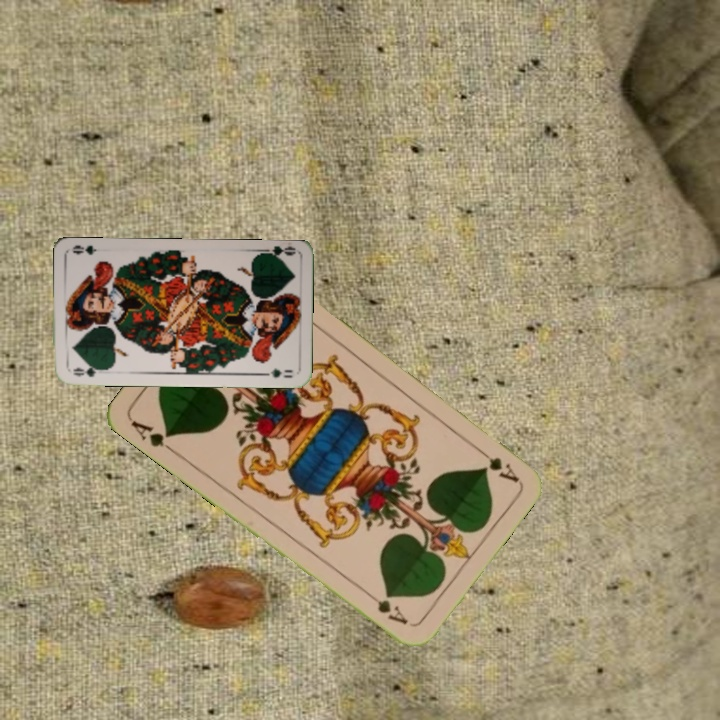GA: (470, 442, 521, 485), (126, 416, 179, 457)
GO: (257, 243, 297, 263), (69, 361, 107, 379)
